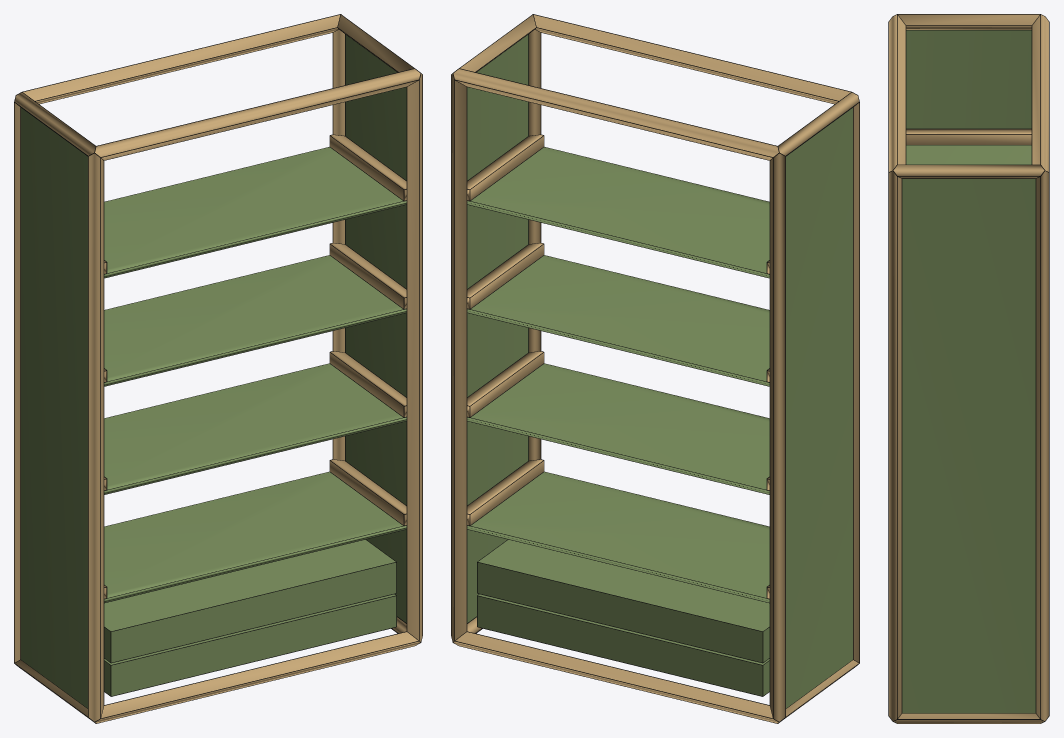
Rendered from 009-dressing-grande.glb.
3 views of the same model, side by side, from view 1: azimuth 30°, elevation 25°; view 2: azimuth 150°, elevation 25°; view 3: azimuth 270°, elevation 25° (orthographic). The views are drawn at different scales.
Parts seen in each view (by area): view 1: panneau-joue1, tablette-plate-mod-0, tablette-plate-mod-2, tablette-plate-mod-1, tablette-plate-mod-3, mod-drawer-1, panneau-joue2, mod-drawer-0, arete-Z0, arete-Z1, arete-X2, arete-X0 (+21 smaller); view 2: panneau-joue1, tablette-plate-mod-0, tablette-plate-mod-2, tablette-plate-mod-1, tablette-plate-mod-3, mod-drawer-1, panneau-joue2, mod-drawer-0, arete-Z2, arete-Z3, arete-X3, arete-X1 (+21 smaller); view 3: panneau-joue2, panneau-joue1, arete-Z1, arete-Z3, arete-X2, arete-X3, tablette-plate-mod-3, panneau-wire-joue2, arete-Y2, arete-Y3, tablette-traverse-left-mod-3, arete-Y1 (+8 smaller).
Boxes of the visible parts, left/top/right/bottom form: panneau-joue1: left=21, top=108, right=87, bottom=708; tablette-plate-mod-0: left=104, top=472, right=406, bottom=602; tablette-plate-mod-2: left=104, top=255, right=406, bottom=386; tablette-plate-mod-1: left=104, top=363, right=406, bottom=494; tablette-plate-mod-3: left=104, top=147, right=406, bottom=277; mod-drawer-1: left=104, top=539, right=396, bottom=662; panneau-joue2: left=345, top=35, right=406, bottom=622; mod-drawer-0: left=104, top=594, right=396, bottom=696; arete-Z0: left=88, top=153, right=103, bottom=721; arete-Z1: left=407, top=74, right=422, bottom=641; arete-X2: left=95, top=69, right=420, bottom=160; arete-X0: left=95, top=632, right=420, bottom=723; panneau-joue1: left=786, top=108, right=852, bottom=708; tablette-plate-mod-0: left=467, top=472, right=769, bottom=602; tablette-plate-mod-2: left=467, top=255, right=769, bottom=386; tablette-plate-mod-1: left=467, top=363, right=769, bottom=494; tablette-plate-mod-3: left=467, top=147, right=769, bottom=277; mod-drawer-1: left=477, top=539, right=769, bottom=662; panneau-joue2: left=467, top=35, right=528, bottom=622; mod-drawer-0: left=477, top=594, right=769, bottom=696; arete-Z2: left=770, top=153, right=785, bottom=721; arete-Z3: left=451, top=74, right=466, bottom=641; arete-X3: left=453, top=69, right=778, bottom=160; arete-X1: left=453, top=632, right=778, bottom=723; panneau-joue2: left=902, top=179, right=1035, bottom=713; panneau-joue1: left=906, top=30, right=1031, bottom=128; arete-Z1: left=889, top=171, right=901, bottom=720; arete-Z3: left=1036, top=171, right=1048, bottom=720; arete-X2: left=889, top=15, right=905, bottom=171; arete-X3: left=1032, top=15, right=1048, bottom=171; tablette-plate-mod-3: left=906, top=145, right=1031, bottom=164; panneau-wire-joue2: left=901, top=178, right=1036, bottom=713; arete-Y2: left=898, top=14, right=1039, bottom=29; arete-Y3: left=893, top=165, right=1044, bottom=178; tablette-traverse-left-mod-3: left=906, top=129, right=1031, bottom=144; arete-Y1: left=894, top=713, right=1043, bottom=723.
Size of the model in its own units: 1.23 by 2.03 by 0.5309.
